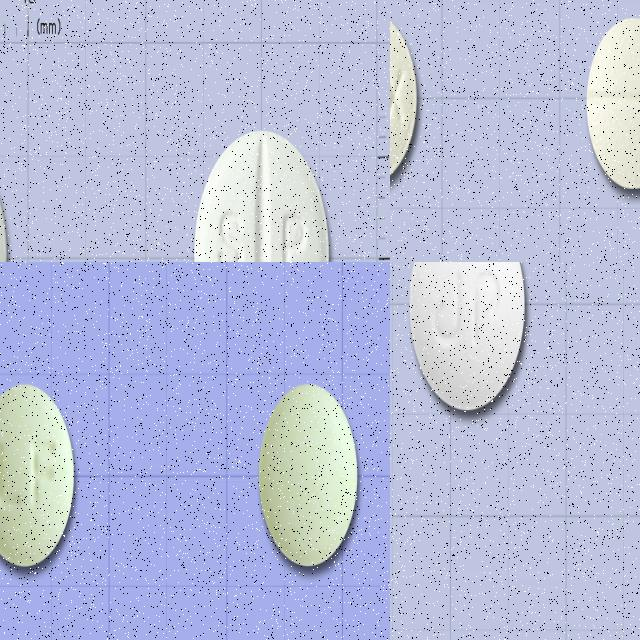Levofloxacin Tab- Dongsung: (259, 386, 358, 566), (0, 382, 75, 566)
Qupron Tab: (193, 128, 330, 262)
Reyon Clarithromycin Tab: (586, 15, 640, 190), (390, 9, 418, 185)
Rp Levofloxacin Tab: (409, 262, 526, 412)
